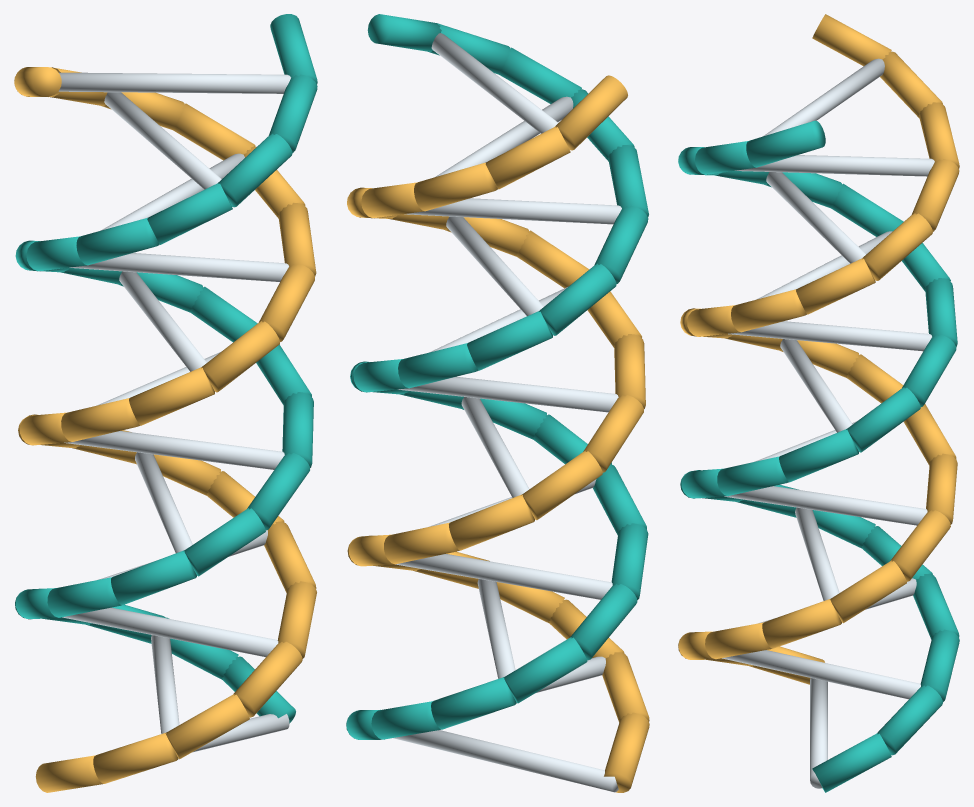
The model's file is dna-helix-lite.glb.
3 renders of one model, left to right at view 1: azimuth 30°, elevation 25°; view 2: azimuth 150°, elevation 25°; view 3: azimuth 270°, elevation 25°, orthographic. The views are drawn at different scales.
Visible parts, largest first — view 1: Schematic base pair; view 2: Schematic base pair; view 3: Schematic base pair.
Boxes of the visible parts, <box> form: Schematic base pair: <box>14,14,317,792</box>; Schematic base pair: <box>346,14,649,792</box>; Schematic base pair: <box>678,14,959,792</box>.
Size of the model in its own units: 1.11 by 2.9 by 1.11.
